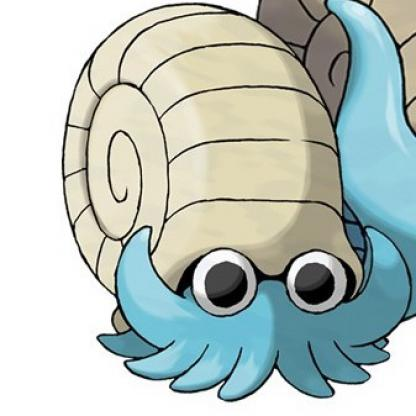Omanyte: (61, 9, 401, 396)
